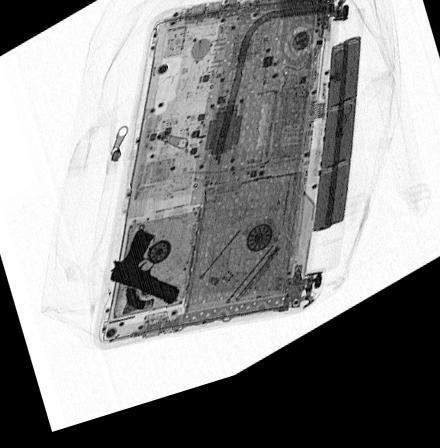Gun: (108, 235, 180, 316)
